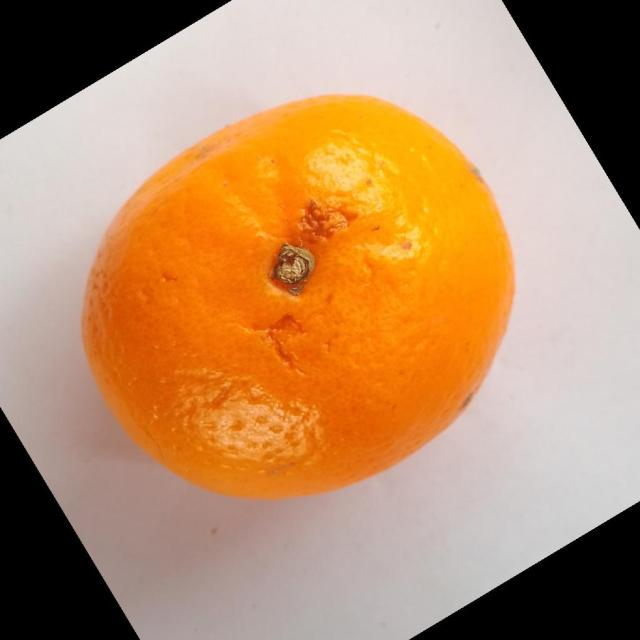fresh orange: (80, 92, 516, 500)
